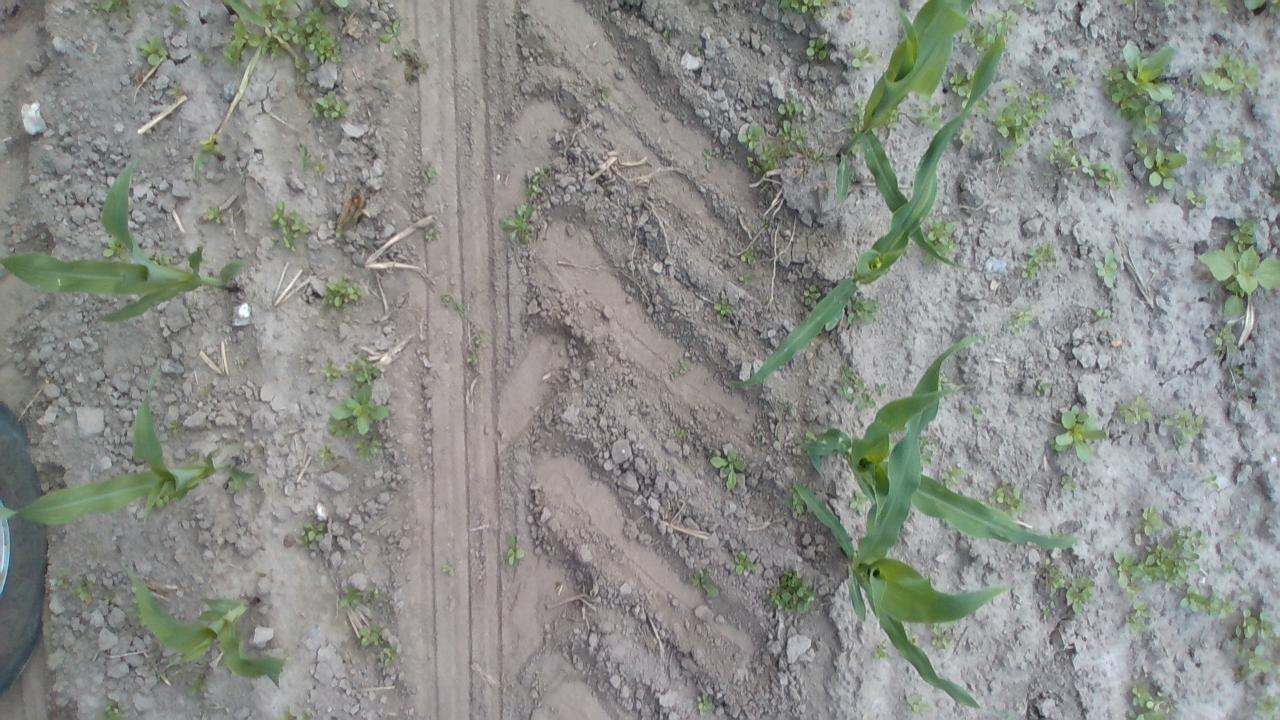Maize: (726, 22, 1008, 391), (794, 334, 1010, 717), (800, 384, 1082, 551), (0, 357, 257, 527), (0, 157, 243, 324), (834, 0, 972, 270), (119, 560, 284, 688), (192, 134, 226, 178)
Weeds: (1100, 42, 1176, 132), (254, 0, 342, 72), (1198, 236, 1280, 296), (1142, 526, 1204, 588), (1229, 607, 1280, 681), (994, 90, 1054, 148), (1049, 404, 1106, 464), (1130, 132, 1187, 190), (328, 382, 389, 436), (1196, 52, 1260, 99), (960, 10, 1019, 55), (767, 569, 818, 614), (270, 200, 311, 250), (222, 17, 261, 67), (1179, 586, 1236, 620), (1126, 684, 1177, 720), (921, 214, 956, 266), (1108, 548, 1144, 590), (710, 447, 745, 490), (1080, 156, 1124, 190), (986, 480, 1025, 518), (1163, 408, 1203, 445), (1020, 243, 1058, 280), (498, 204, 534, 243), (319, 276, 364, 307), (1204, 133, 1246, 164), (309, 90, 348, 122), (135, 32, 170, 66), (777, 118, 807, 156), (836, 364, 864, 404), (1066, 577, 1096, 614), (345, 357, 381, 387), (1044, 137, 1079, 167), (950, 69, 974, 112), (778, 0, 834, 18), (1117, 396, 1153, 424), (1133, 504, 1164, 535), (296, 518, 325, 550), (847, 296, 880, 324), (340, 585, 380, 608), (1042, 557, 1066, 595), (1094, 250, 1118, 288), (352, 434, 382, 464), (689, 568, 720, 597), (844, 98, 865, 140), (298, 145, 326, 176), (379, 18, 401, 57), (1126, 600, 1148, 638), (355, 622, 386, 648), (1214, 324, 1240, 354), (1006, 305, 1032, 334), (917, 434, 942, 464), (503, 534, 526, 565), (524, 164, 546, 196), (102, 235, 128, 262), (1230, 217, 1256, 244), (737, 126, 766, 150), (94, 701, 130, 720), (916, 104, 942, 130), (930, 622, 954, 650), (758, 142, 782, 170), (901, 694, 931, 716), (87, 0, 135, 13), (69, 577, 95, 601), (318, 357, 342, 382), (940, 464, 966, 487), (850, 45, 876, 68), (1256, 693, 1278, 720), (128, 596, 146, 628), (786, 488, 806, 516), (733, 552, 757, 574), (804, 36, 826, 60), (714, 297, 734, 323), (185, 674, 207, 697), (777, 98, 804, 116), (1200, 0, 1232, 15), (441, 293, 465, 313), (277, 707, 313, 720), (166, 3, 186, 26), (849, 490, 868, 513), (1223, 296, 1244, 316), (205, 204, 224, 226), (1185, 189, 1206, 208), (803, 284, 821, 306), (318, 443, 335, 466), (696, 695, 714, 716), (872, 638, 889, 660), (826, 308, 842, 331), (382, 644, 398, 666), (952, 128, 975, 143), (856, 392, 876, 409), (884, 108, 900, 129), (794, 431, 818, 445), (809, 150, 831, 164), (739, 248, 758, 264), (1054, 77, 1077, 90), (166, 82, 183, 99), (196, 50, 214, 66), (1142, 190, 1158, 208), (746, 156, 760, 176), (54, 569, 69, 587), (1125, 584, 1144, 598), (974, 98, 990, 114), (1034, 380, 1050, 396), (165, 418, 182, 433), (1060, 474, 1077, 489), (1243, 0, 1266, 11), (151, 254, 172, 266), (678, 356, 692, 374), (938, 372, 950, 392), (970, 403, 984, 420), (1202, 476, 1219, 490), (1093, 308, 1112, 320), (904, 630, 918, 646), (596, 83, 610, 99), (1002, 148, 1015, 165), (420, 168, 435, 182), (1016, 0, 1036, 10), (670, 428, 688, 438), (739, 272, 754, 284), (1004, 84, 1019, 96), (1232, 531, 1244, 546), (331, 0, 353, 8), (442, 564, 456, 576), (874, 382, 886, 395), (153, 496, 170, 505), (849, 165, 858, 182), (424, 229, 436, 241), (852, 142, 864, 154), (702, 148, 716, 158), (1268, 0, 1278, 13), (918, 94, 932, 103), (1042, 608, 1052, 620), (798, 481, 811, 490), (104, 590, 112, 604), (474, 332, 484, 342), (298, 80, 312, 87), (466, 356, 478, 364), (692, 45, 700, 56), (284, 651, 292, 662), (1121, 0, 1137, 5), (1158, 0, 1174, 5), (242, 124, 250, 134), (336, 224, 342, 237), (661, 29, 669, 38), (762, 220, 770, 227), (1276, 164, 1280, 177), (159, 672, 167, 678)
